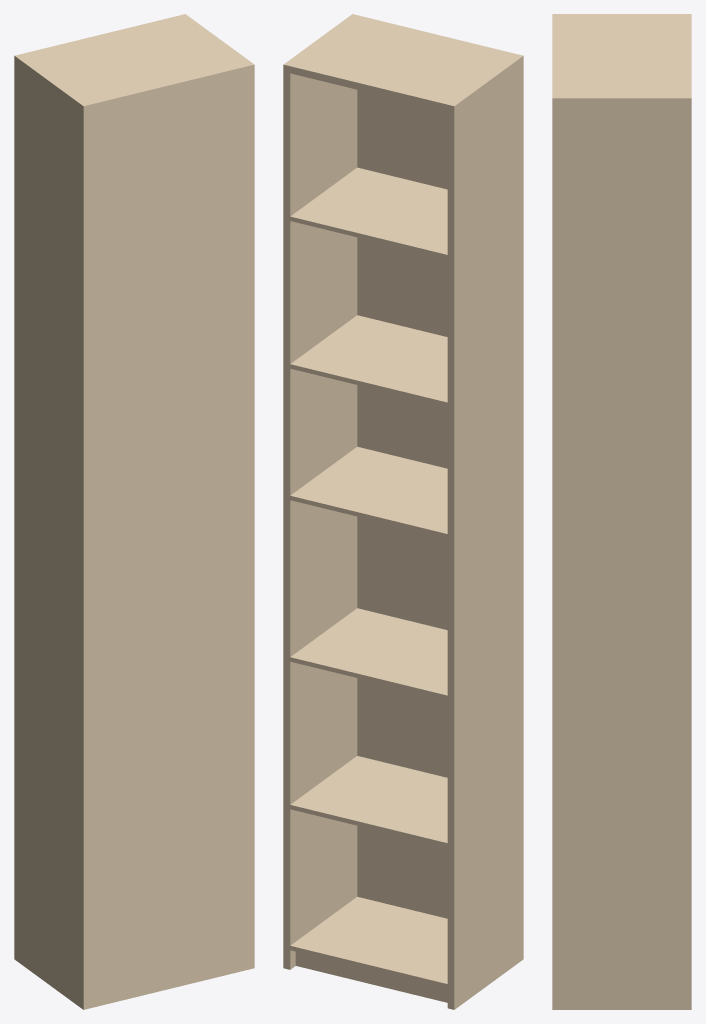
Rendered from billy-high.gltf.
3 views of the same model, side by side, from view 1: azimuth 30°, elevation 25°; view 2: azimuth 150°, elevation 25°; view 3: azimuth 270°, elevation 25° (orthographic).
Bounding box in the file's own units: 0.4 × 2.02 × 0.28.
